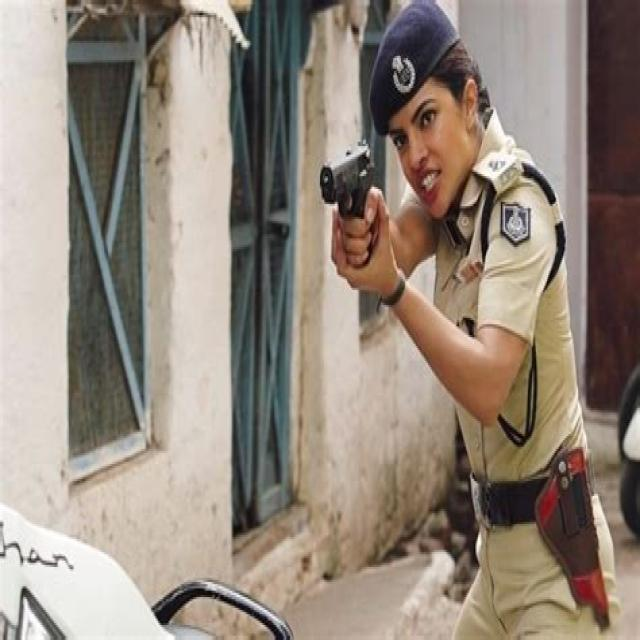weapons: (307, 106, 392, 297)
